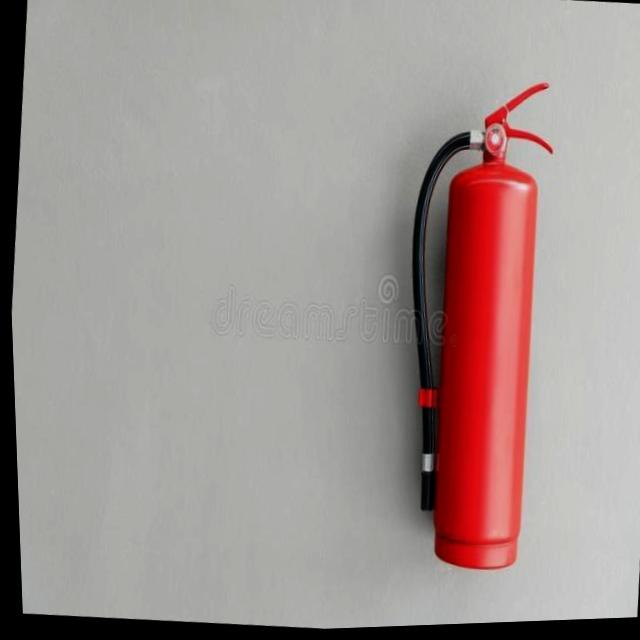FireExtinguisher: (374, 68, 575, 582)
